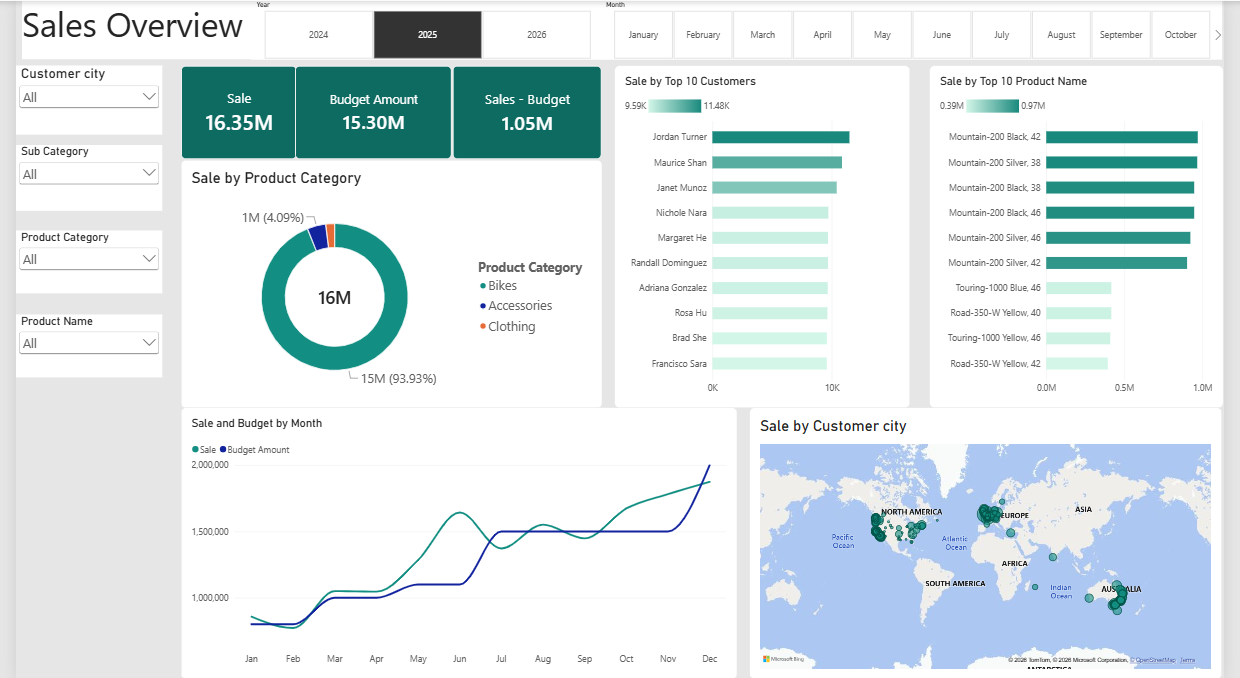

The page's visual inventory and layout, read from the dashboard file:
{"tool":"powerbi","page":{"name":"Sales Overview","canvas":[1920,1080],"ordinal":0},"visuals":[{"type":"textbox","box":[10,0,280,280],"z":0},{"type":"textbox","box":[10,0,1884.2,92.5],"z":1000},{"type":"slicer","fields":{"Values":["Dim_Customer.Customer city"]},"box":[0,102.5,232.4,110],"z":2000},{"type":"slicer","fields":{"Values":["Dim_Products.Sub Category"]},"box":[0,229.9,232.4,105],"z":3000},{"type":"slicer","fields":{"Values":["Dim_Products.Product Category"]},"box":[0,364.8,232.4,100],"z":4000},{"type":"slicer","fields":{"Values":["Dim_Products.Product Name"]},"box":[0,499.8,232.4,100],"z":5000},{"type":"slicer","fields":{"Values":["Dim_Calendar.Year"]},"box":[354.8,0,782.2,92.5],"z":6000},{"type":"slicer","fields":{"Values":["Dim_Calendar.Month"]},"box":[1137,0,782.2,92.5],"z":7000},{"type":"tableEx","fields":{"Values":["Fact_Internetsale.Sale"]},"box":[262.4,102.5,184.9,149.9],"z":8000},{"type":"tableEx","fields":{"Values":["Key Measures.Budget Amount"]},"box":[444.8,102.5,249.9,149.9],"z":9000},{"type":"tableEx","fields":{"Values":["Key Measures.Sales vs Budget"]},"box":[694.7,102.5,237.4,149.9],"z":10000},{"type":"donutChart","fields":{"Category":["Dim_Products.Product Category"],"Y":["Key Measures.Sale"]},"box":[262.4,252.4,669.7,394.8],"z":11000},{"type":"lineChart","title":"Sale and Budget by Month","fields":{"Category":["Dim_Calendar.Monthshort"],"Y":["Key Measures.Sale","Key Measures.Budget Amount"]},"box":[262.4,647.2,884.6,432.3],"z":12000},{"type":"barChart","title":"Sale by Top 10 Customers","fields":{"Category":["Dim_Customer.FullName"],"Y":["Key Measures.Sale"]},"box":[952.1,102.5,469.8,544.8],"z":13000},{"type":"barChart","title":"Sale by Top 10 Product Name","fields":{"Category":["Dim_Products.Product Name"],"Y":["Key Measures.Sale"]},"box":[1451.9,102.5,467.3,544.8],"z":14000},{"type":"map","title":"Sale by Customer city","fields":{"Category":["Dim_Customer.Customer city"],"Size":["Key Measures.Sale"]},"box":[1166.7,646.6,727.7,431.9],"z":15000}]}

Visuals, with their boxes in screenshot pixels (x1, y1, x2, y2), scaled from the page's 1920x1080 canvas onto the 1240x678 screenshot:
textbox: rect(6, 0, 187, 176)
textbox: rect(6, 0, 1223, 58)
slicer - Dim_Customer.Customer city: rect(0, 64, 150, 133)
slicer - Dim_Products.Sub Category: rect(0, 144, 150, 210)
slicer - Dim_Products.Product Category: rect(0, 229, 150, 292)
slicer - Dim_Products.Product Name: rect(0, 314, 150, 377)
slicer - Dim_Calendar.Year: rect(229, 0, 734, 58)
slicer - Dim_Calendar.Month: rect(734, 0, 1239, 58)
tableEx - Fact_Internetsale.Sale: rect(169, 64, 289, 158)
tableEx - Key Measures.Budget Amount: rect(287, 64, 449, 158)
tableEx - Key Measures.Sales vs Budget: rect(449, 64, 602, 158)
donutChart - Dim_Products.Product Category x Key Measures.Sale: rect(169, 158, 602, 406)
"Sale and Budget by Month" lineChart: rect(169, 406, 741, 677)
"Sale by Top 10 Customers" barChart: rect(615, 64, 918, 406)
"Sale by Top 10 Product Name" barChart: rect(938, 64, 1239, 406)
"Sale by Customer city" map: rect(753, 406, 1223, 677)
